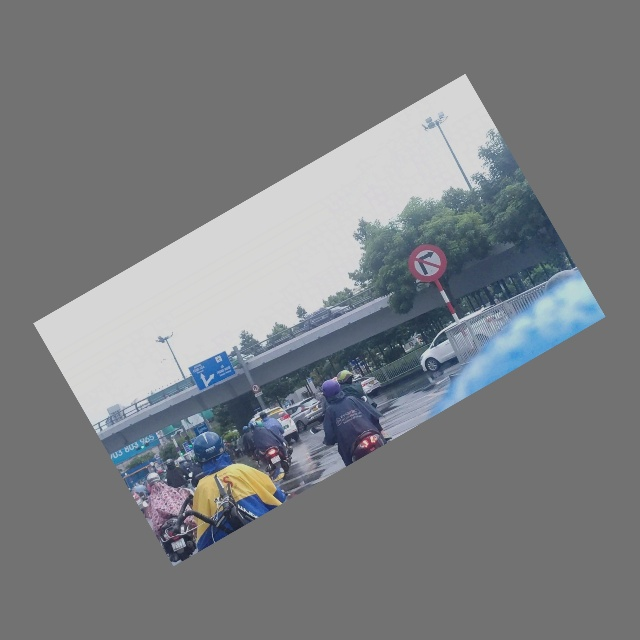P.123b: (399, 234, 458, 292)
P.124b1: (250, 382, 263, 396)
